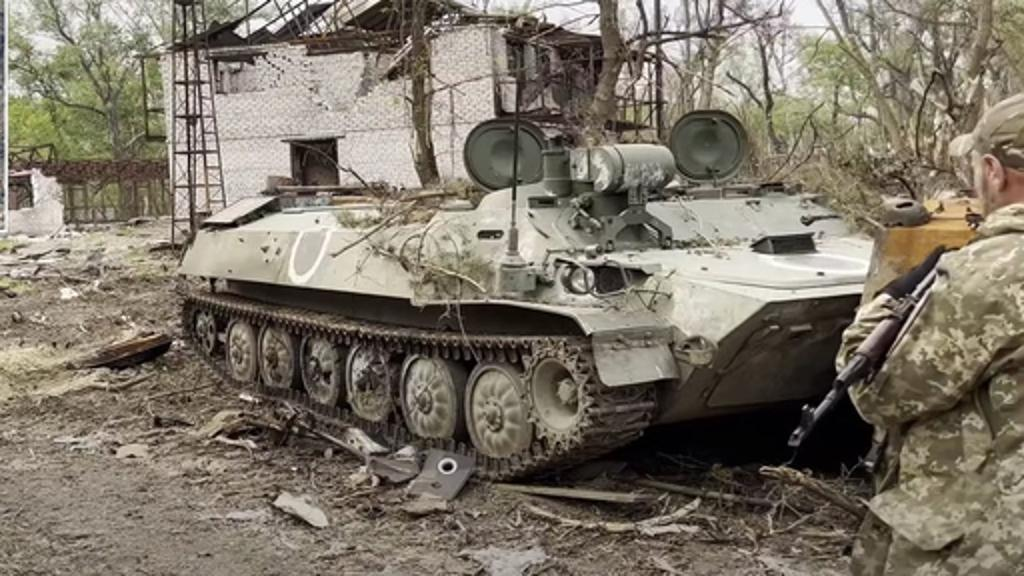APC-IFV: (156, 106, 918, 466)
